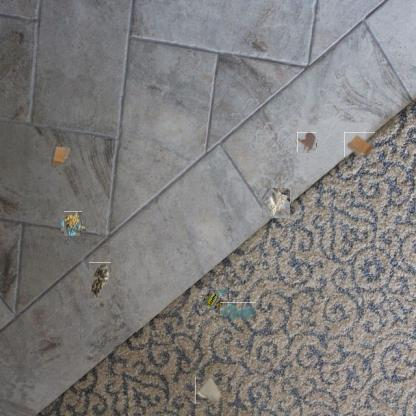dirty: (262, 188, 290, 218), (89, 262, 111, 299), (199, 288, 228, 316), (344, 132, 375, 157), (195, 377, 222, 404), (63, 213, 84, 235), (51, 144, 71, 166)
liquid: (220, 302, 256, 321), (296, 132, 317, 152)
